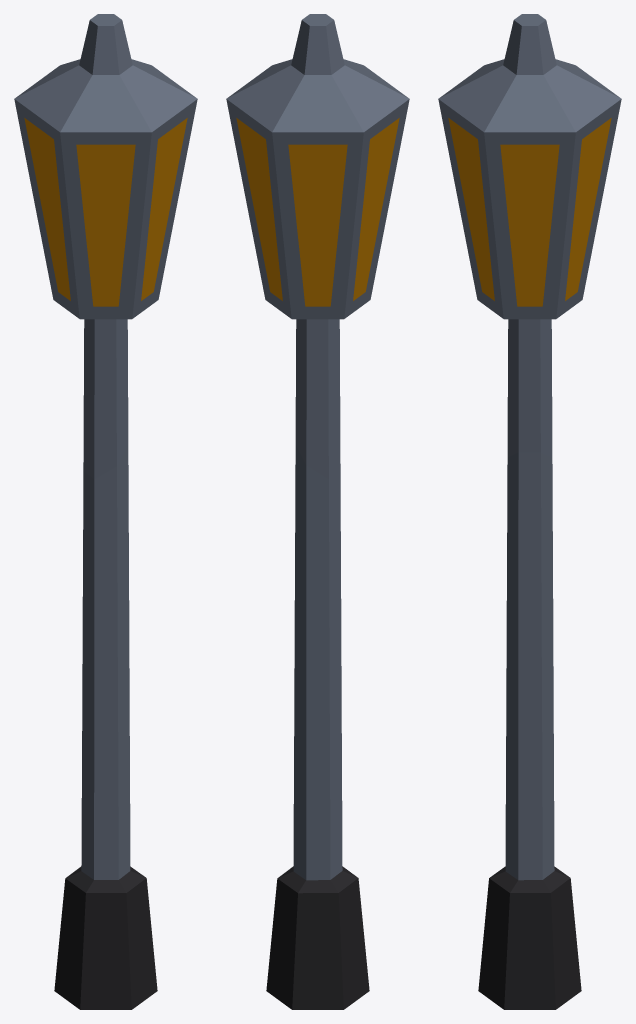
The model's file is Lantern 3 Fractured.fbx.
3 renders of one model, left to right at view 1: azimuth 30°, elevation 25°; view 2: azimuth 150°, elevation 25°; view 3: azimuth 270°, elevation 25°, orthographic.
Parts seen in each view (by area): view 1: Lantern_03_Breaking.001, Lantern_03_Breaking; view 2: Lantern_03_Breaking.001, Lantern_03_Breaking; view 3: Lantern_03_Breaking.001, Lantern_03_Breaking.
Boxes of the visible parts, x1=… form: Lantern_03_Breaking.001: x1=14, y1=14, x2=197, y2=479; Lantern_03_Breaking: x1=54, y1=445, x2=157, y2=1009; Lantern_03_Breaking.001: x1=226, y1=14, x2=409, y2=478; Lantern_03_Breaking: x1=266, y1=444, x2=369, y2=1009; Lantern_03_Breaking.001: x1=438, y1=14, x2=621, y2=457; Lantern_03_Breaking: x1=478, y1=452, x2=581, y2=1009.
Size of the model in its own units: 33.09 by 223 by 38.2.
